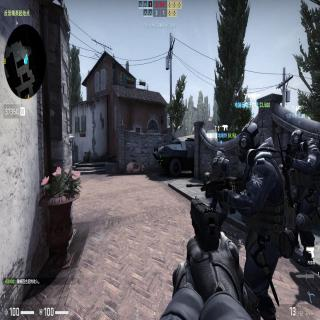CT-Body: (282, 130, 320, 253)
CT-Head: (237, 120, 261, 164), (290, 128, 304, 154), (217, 146, 225, 156)
